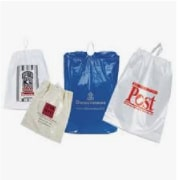kantong: (102, 42, 173, 144), (62, 50, 120, 135), (20, 82, 73, 144), (5, 47, 50, 111)
